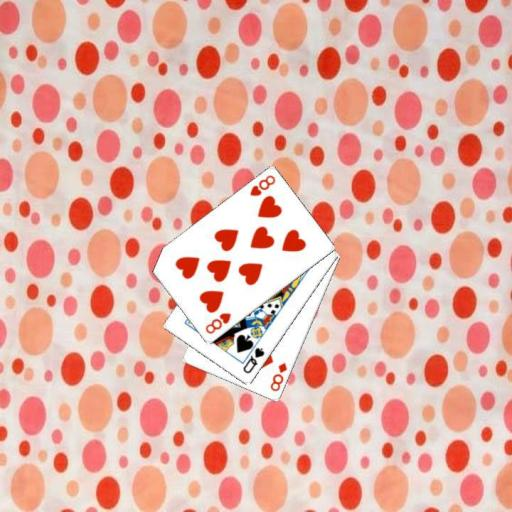8D: (267, 359, 289, 393)
8H: (202, 310, 232, 336), (247, 172, 277, 198)
QS: (240, 345, 266, 375)
